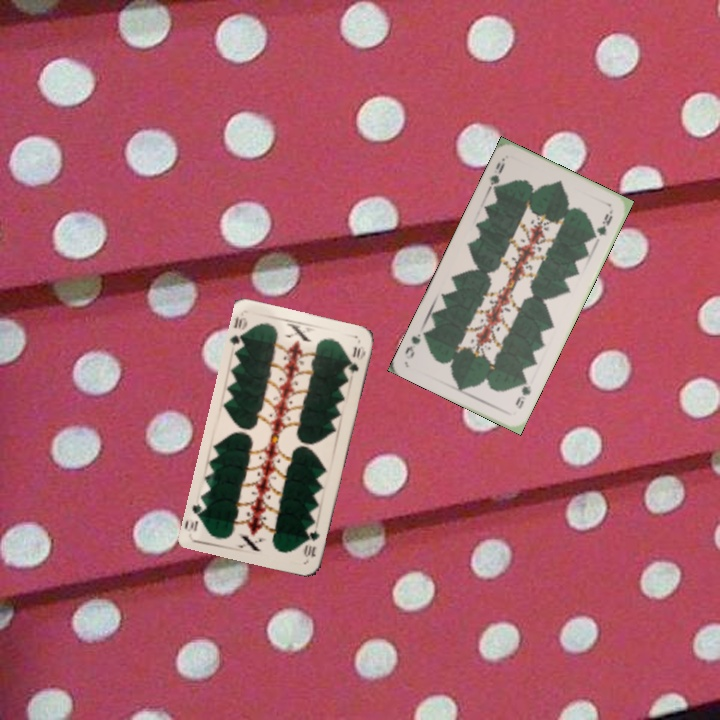G10: (227, 312, 250, 352), (300, 525, 322, 561)
G9: (484, 154, 508, 195), (511, 375, 534, 412)
